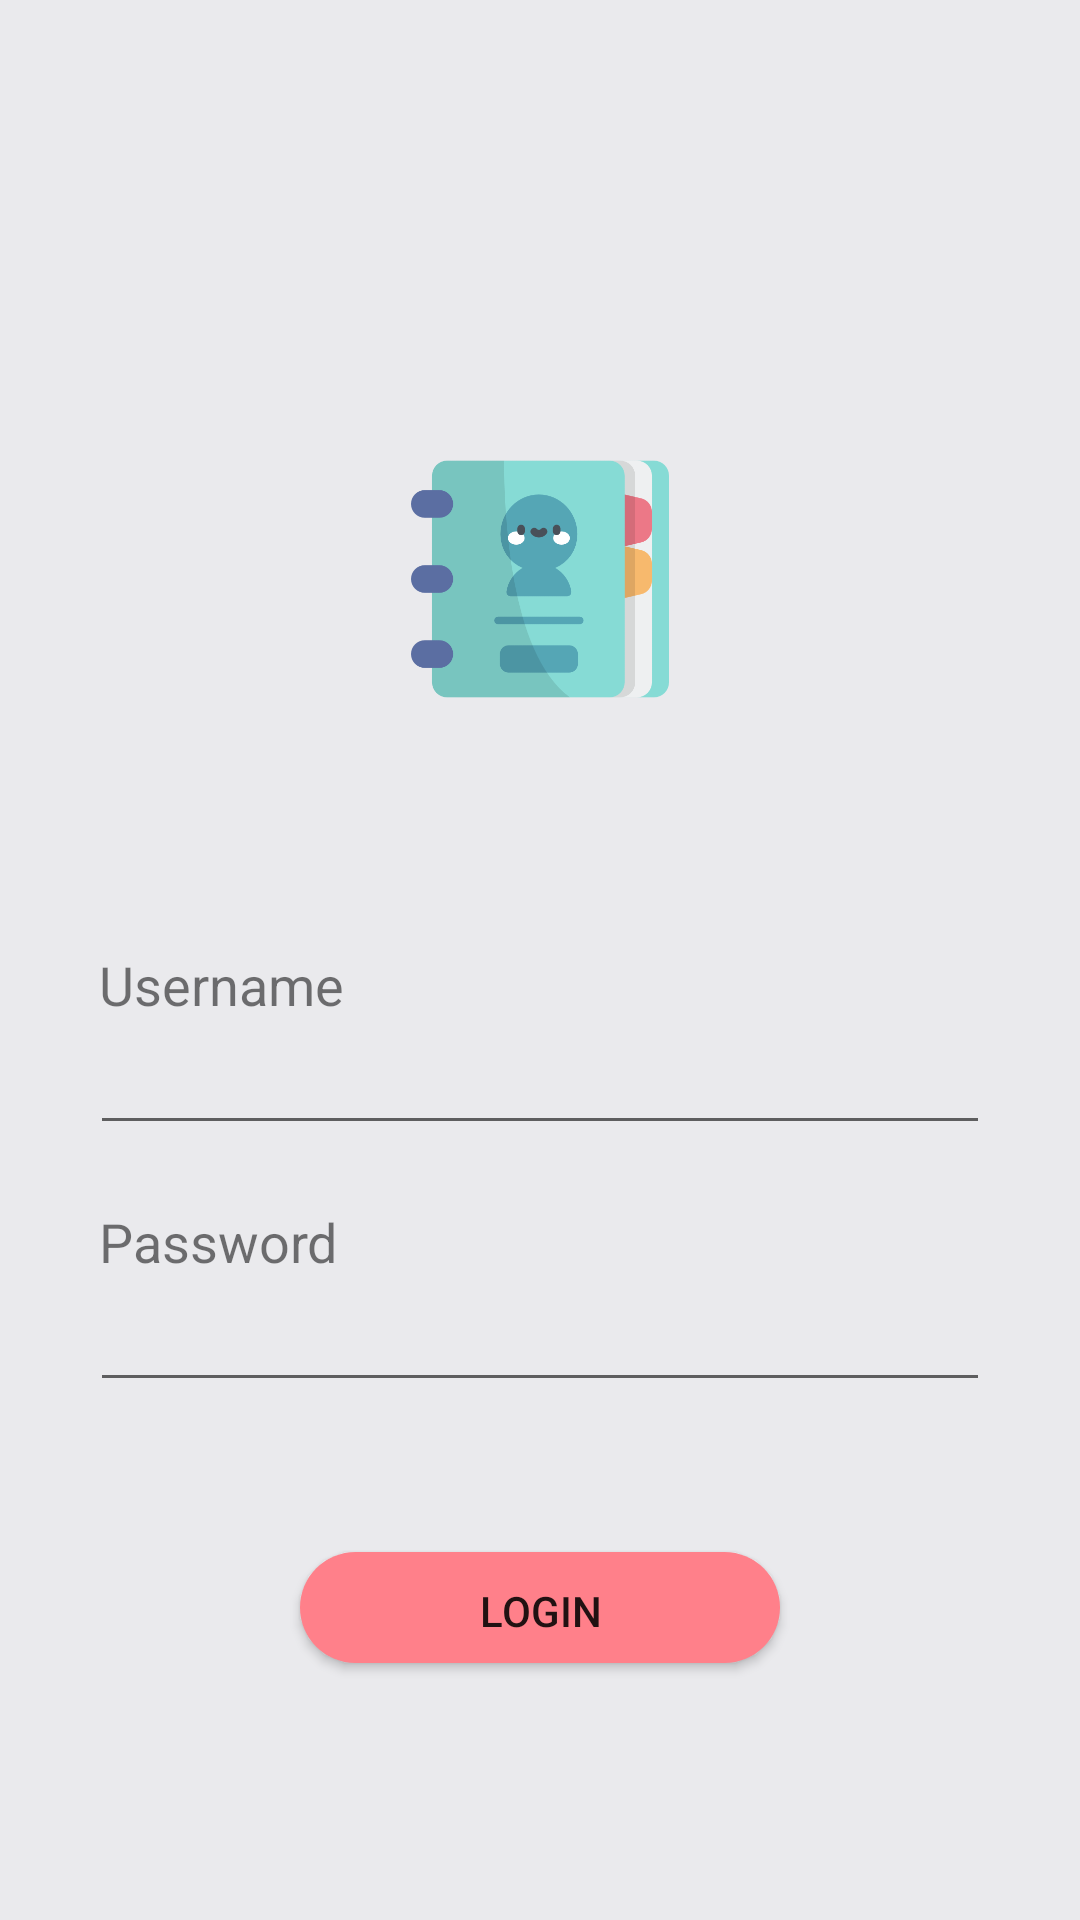

Locate icon controls on the screen. Image size 1080×1920, boxes as [left=x1, top=y1, right=x2, bottom=y2].
freepik agenda: [left=411, top=460, right=669, bottom=698]
